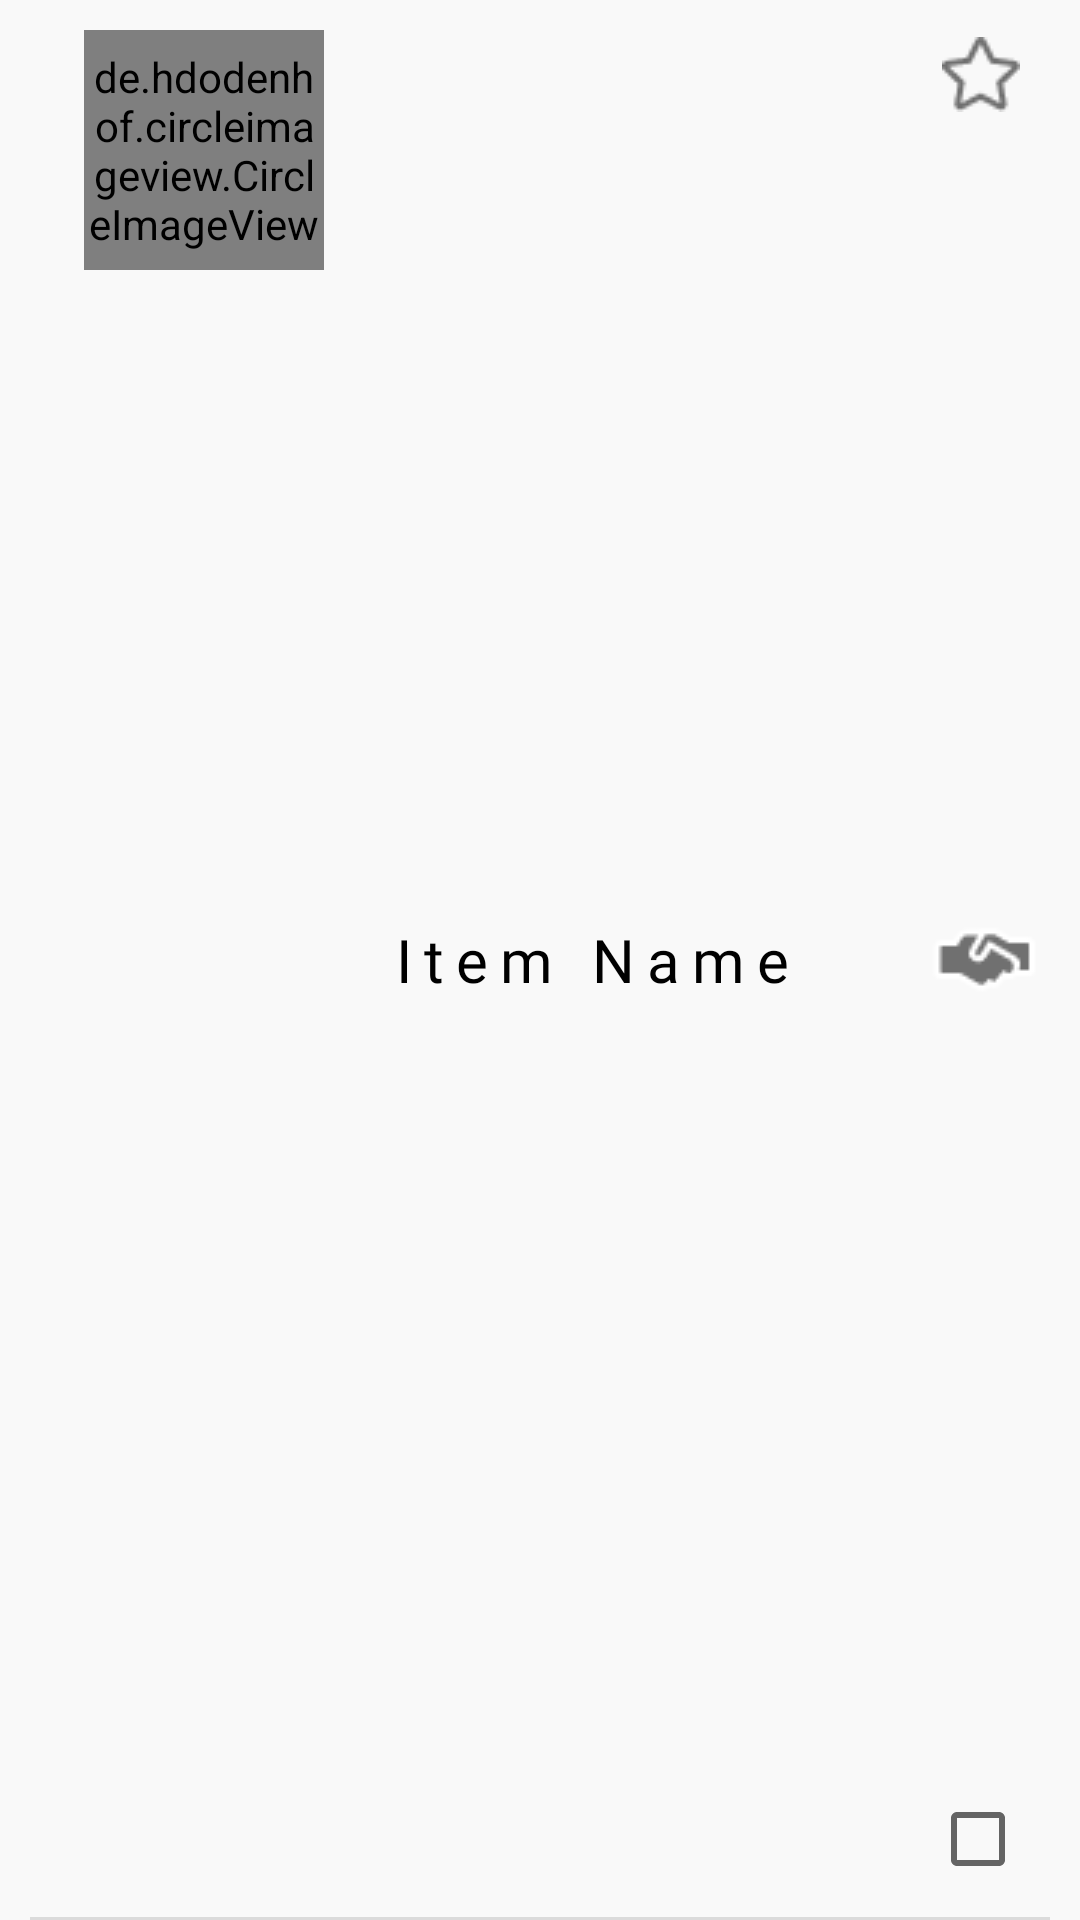

Icon bounding boxes for this 1080×1920 phone screenshot, format [x1, y1, x2, y2]:
favorite checkbox: [942, 37, 1020, 112]
lent: [939, 933, 1030, 986]
